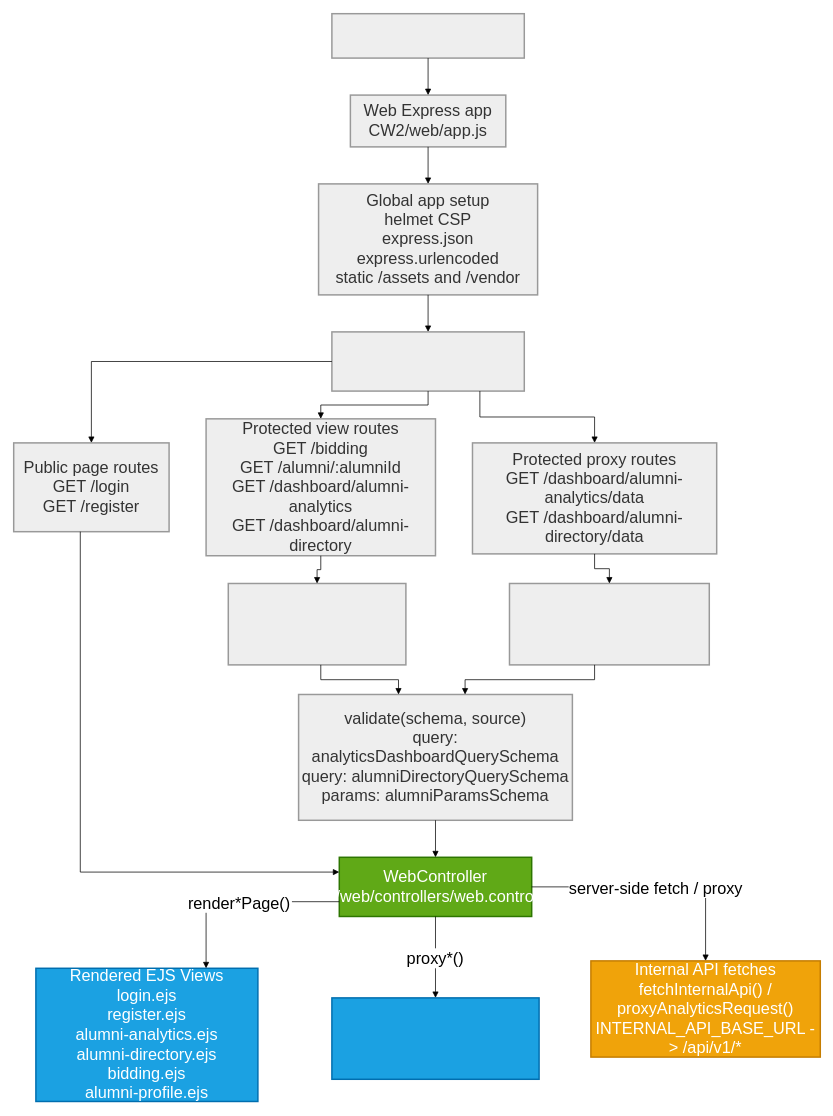
The diagram is 833 pixels wide and 1116 high, and some of its shapes have lost their labels. Each missing label, with the centre of its shape:
"authenticateSessionApi returns JSON 401 if no valid session" goes at [609,623].
"authenticateViewSession redirects to /login if no valid session" goes at [316,623].
"Incoming HTTP Request" goes at [428,35].
"JSON proxy response passes through upstream analytics payload" goes at [435,1038].
"Web Routes CW2/web/routes/web.routes.js" goes at [428,361].
